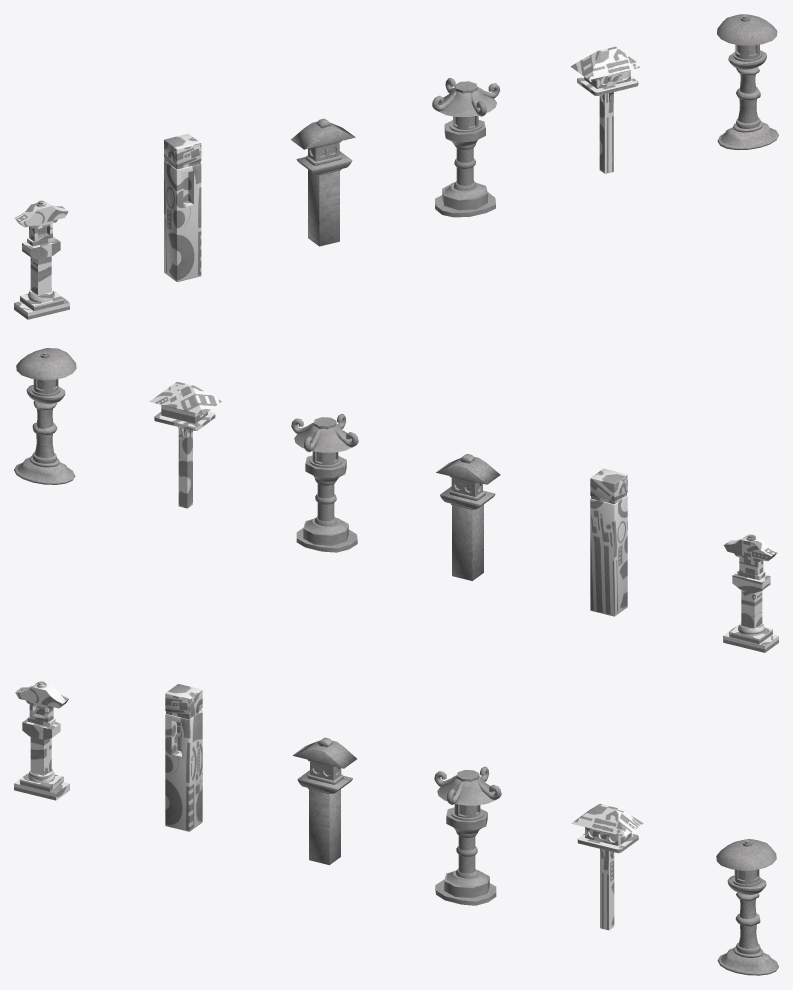
File: Rock Lamps.fbx
3 views of the same model, one above another, from view 1: azimuth 30°, elevation 25°; view 2: azimuth 150°, elevation 25°; view 3: azimuth 330°, elevation 25° (orthographic).
Visible parts, largest first — view 1: Lamp Rock-2, Lamp Rock-4, Lamp Rock-6, Lamp Rock-3, Lamp Rock-1, Lamp Rock-5; view 2: Lamp Rock-2, Lamp Rock-4, Lamp Rock-6, Lamp Rock-3, Lamp Rock-1, Lamp Rock-5; view 3: Lamp Rock-2, Lamp Rock-4, Lamp Rock-6, Lamp Rock-3, Lamp Rock-1, Lamp Rock-5.
Part boxes in pixels (x1=…): Lamp Rock-2: x1=164, y1=134, x2=201, y2=281; Lamp Rock-4: x1=432, y1=78, x2=500, y2=217; Lamp Rock-6: x1=717, y1=14, x2=778, y2=149; Lamp Rock-3: x1=291, y1=118, x2=355, y2=246; Lamp Rock-1: x1=14, y1=200, x2=69, y2=319; Lamp Rock-5: x1=570, y1=46, x2=642, y2=173; Lamp Rock-2: x1=590, y1=468, x2=627, y2=616; Lamp Rock-4: x1=291, y1=414, x2=358, y2=552; Lamp Rock-6: x1=14, y1=348, x2=76, y2=484; Lamp Rock-3: x1=436, y1=454, x2=500, y2=580; Lamp Rock-1: x1=723, y1=534, x2=778, y2=652; Lamp Rock-5: x1=149, y1=381, x2=221, y2=508; Lamp Rock-2: x1=165, y1=684, x2=202, y2=831; Lamp Rock-4: x1=434, y1=766, x2=501, y2=905; Lamp Rock-6: x1=716, y1=839, x2=778, y2=975; Lamp Rock-3: x1=292, y1=737, x2=356, y2=865; Lamp Rock-1: x1=14, y1=681, x2=69, y2=800; Lamp Rock-5: x1=571, y1=804, x2=643, y2=930.
Bounding box in the file's own units: 107 × 18.39 × 9.45.
